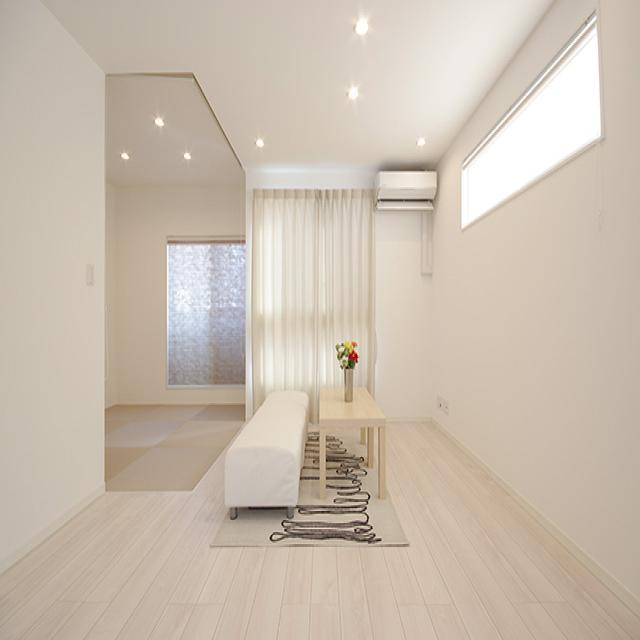white chair: (226, 379, 316, 530)
white desk: (308, 377, 396, 511)
